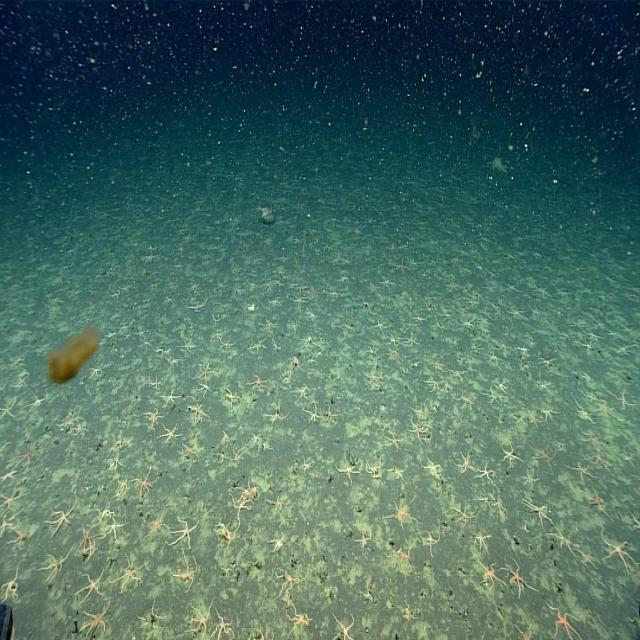brittle-stars: (601, 532, 634, 577), (548, 601, 582, 640), (81, 607, 111, 640), (171, 555, 198, 590), (506, 558, 531, 594), (48, 502, 76, 534), (116, 556, 142, 590), (525, 496, 554, 526), (172, 517, 196, 552), (44, 552, 70, 584), (551, 526, 576, 558), (80, 572, 106, 602), (276, 566, 302, 596), (138, 600, 164, 629), (0, 568, 21, 603), (188, 607, 210, 640), (390, 497, 413, 528), (532, 443, 556, 472), (479, 558, 502, 588), (568, 459, 595, 484), (392, 546, 413, 578), (332, 615, 358, 640), (287, 611, 314, 635), (585, 487, 608, 515), (146, 511, 169, 538), (337, 454, 359, 482), (212, 612, 234, 640), (578, 542, 598, 572), (0, 486, 23, 512), (451, 502, 472, 530), (614, 388, 636, 414), (135, 469, 154, 499), (232, 497, 252, 525), (580, 428, 604, 451), (104, 517, 125, 543), (219, 526, 239, 553), (477, 463, 497, 489), (484, 384, 504, 409), (16, 444, 36, 469), (501, 442, 520, 468), (268, 402, 287, 428), (160, 422, 182, 444), (590, 449, 612, 471), (421, 456, 442, 479), (409, 419, 428, 444), (188, 403, 209, 425), (235, 476, 255, 499), (0, 399, 19, 423), (9, 526, 28, 550), (222, 386, 240, 411), (248, 375, 269, 396), (180, 441, 200, 463), (96, 500, 116, 522), (456, 451, 474, 475), (304, 401, 322, 425), (534, 373, 552, 397), (27, 391, 47, 412), (112, 429, 130, 452), (515, 622, 538, 640), (0, 509, 18, 532), (246, 337, 266, 357), (196, 360, 215, 381), (78, 524, 93, 550), (424, 530, 440, 554), (143, 408, 161, 429), (58, 412, 76, 433), (486, 348, 503, 370), (364, 457, 381, 479), (184, 296, 206, 313), (356, 532, 372, 555), (270, 532, 286, 555), (474, 531, 490, 554), (424, 375, 442, 395), (114, 476, 129, 500), (539, 352, 557, 372), (89, 359, 106, 380), (325, 406, 341, 428), (363, 370, 382, 388), (388, 464, 407, 482), (574, 404, 592, 423), (179, 336, 196, 356), (457, 390, 474, 410), (164, 388, 180, 409), (385, 430, 401, 451), (107, 454, 123, 475), (508, 305, 526, 323), (491, 497, 509, 515), (262, 315, 281, 332), (359, 584, 376, 603), (0, 468, 17, 487), (270, 495, 286, 515), (523, 470, 539, 490), (278, 367, 292, 389), (540, 406, 557, 424), (197, 380, 215, 397), (405, 333, 421, 352), (290, 291, 307, 308), (429, 317, 447, 333), (527, 411, 542, 430), (396, 259, 411, 278), (478, 490, 492, 510), (167, 354, 183, 371), (461, 318, 478, 334), (400, 603, 416, 620), (412, 404, 427, 422), (216, 448, 230, 467), (86, 538, 98, 560), (282, 596, 298, 612), (301, 456, 315, 474), (389, 346, 402, 365), (233, 449, 246, 468), (213, 277, 228, 293), (379, 274, 394, 290), (295, 384, 309, 401), (360, 296, 372, 315), (306, 307, 320, 323), (580, 389, 596, 403), (288, 352, 300, 370), (620, 451, 634, 466), (301, 335, 316, 349), (578, 342, 593, 356), (148, 377, 161, 393), (74, 422, 85, 440), (596, 401, 612, 413), (452, 367, 466, 380), (442, 308, 455, 322), (248, 431, 260, 446), (250, 484, 260, 501), (214, 517, 227, 530), (210, 328, 224, 340), (288, 320, 301, 332), (412, 313, 426, 324), (498, 338, 509, 352), (142, 338, 154, 350), (214, 300, 232, 308), (219, 341, 232, 352), (210, 313, 221, 326), (586, 330, 600, 340), (306, 354, 318, 365), (514, 414, 527, 424), (155, 349, 171, 357), (430, 361, 444, 370), (219, 431, 230, 442), (341, 323, 354, 332), (271, 341, 281, 352), (386, 336, 398, 345), (522, 360, 532, 370), (194, 415, 204, 425), (367, 347, 378, 356), (139, 326, 147, 338), (376, 321, 386, 330), (111, 384, 120, 394), (456, 305, 466, 314), (481, 326, 492, 334), (479, 318, 491, 325), (518, 346, 530, 352)
